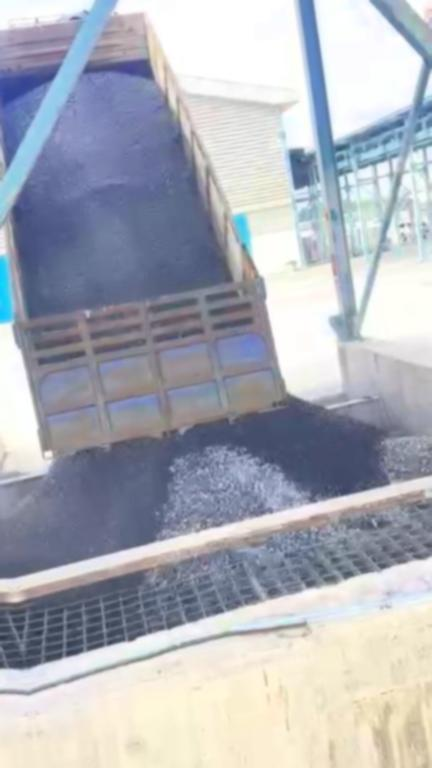gravel: (7, 399, 386, 575), (15, 70, 230, 315), (146, 512, 387, 583), (3, 83, 47, 158), (384, 435, 432, 481)
